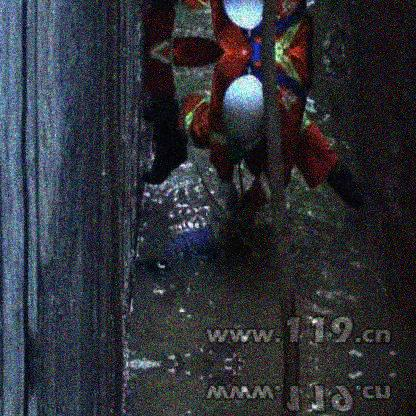helmet: (221, 74, 271, 157)
